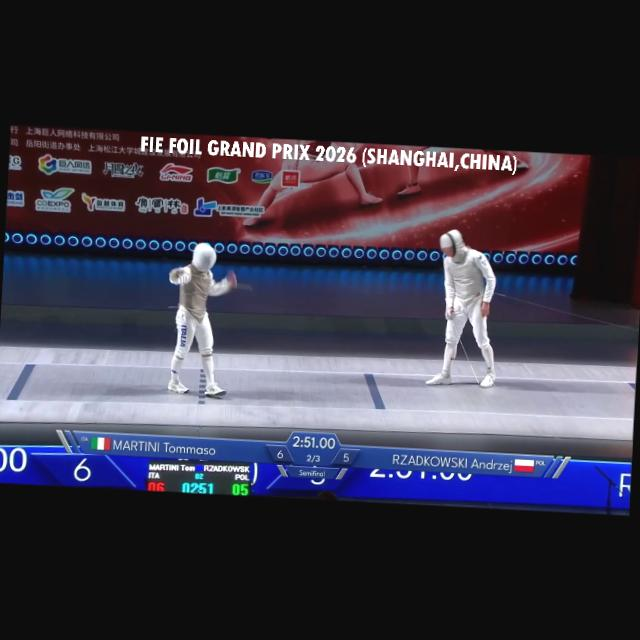blade: (435, 308, 490, 389), (174, 266, 262, 292)
